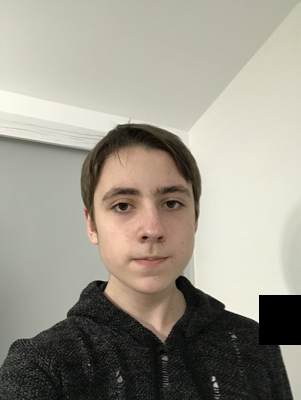without_mask: (95, 177, 195, 295)
